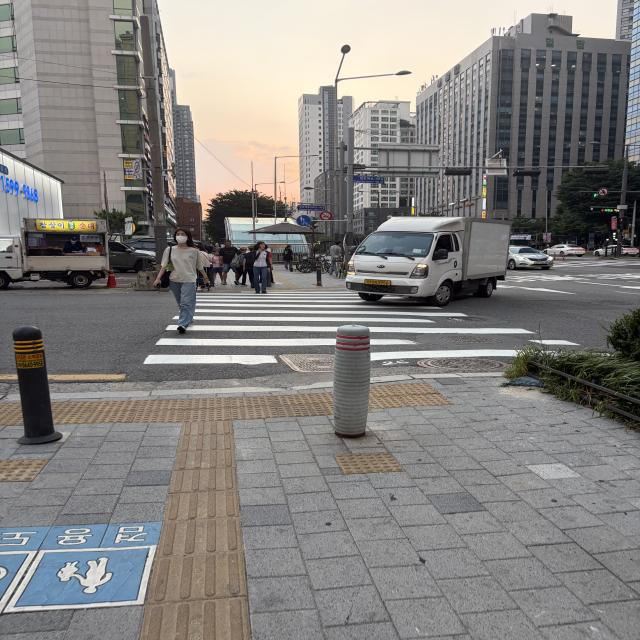car: (336, 206, 535, 325)
